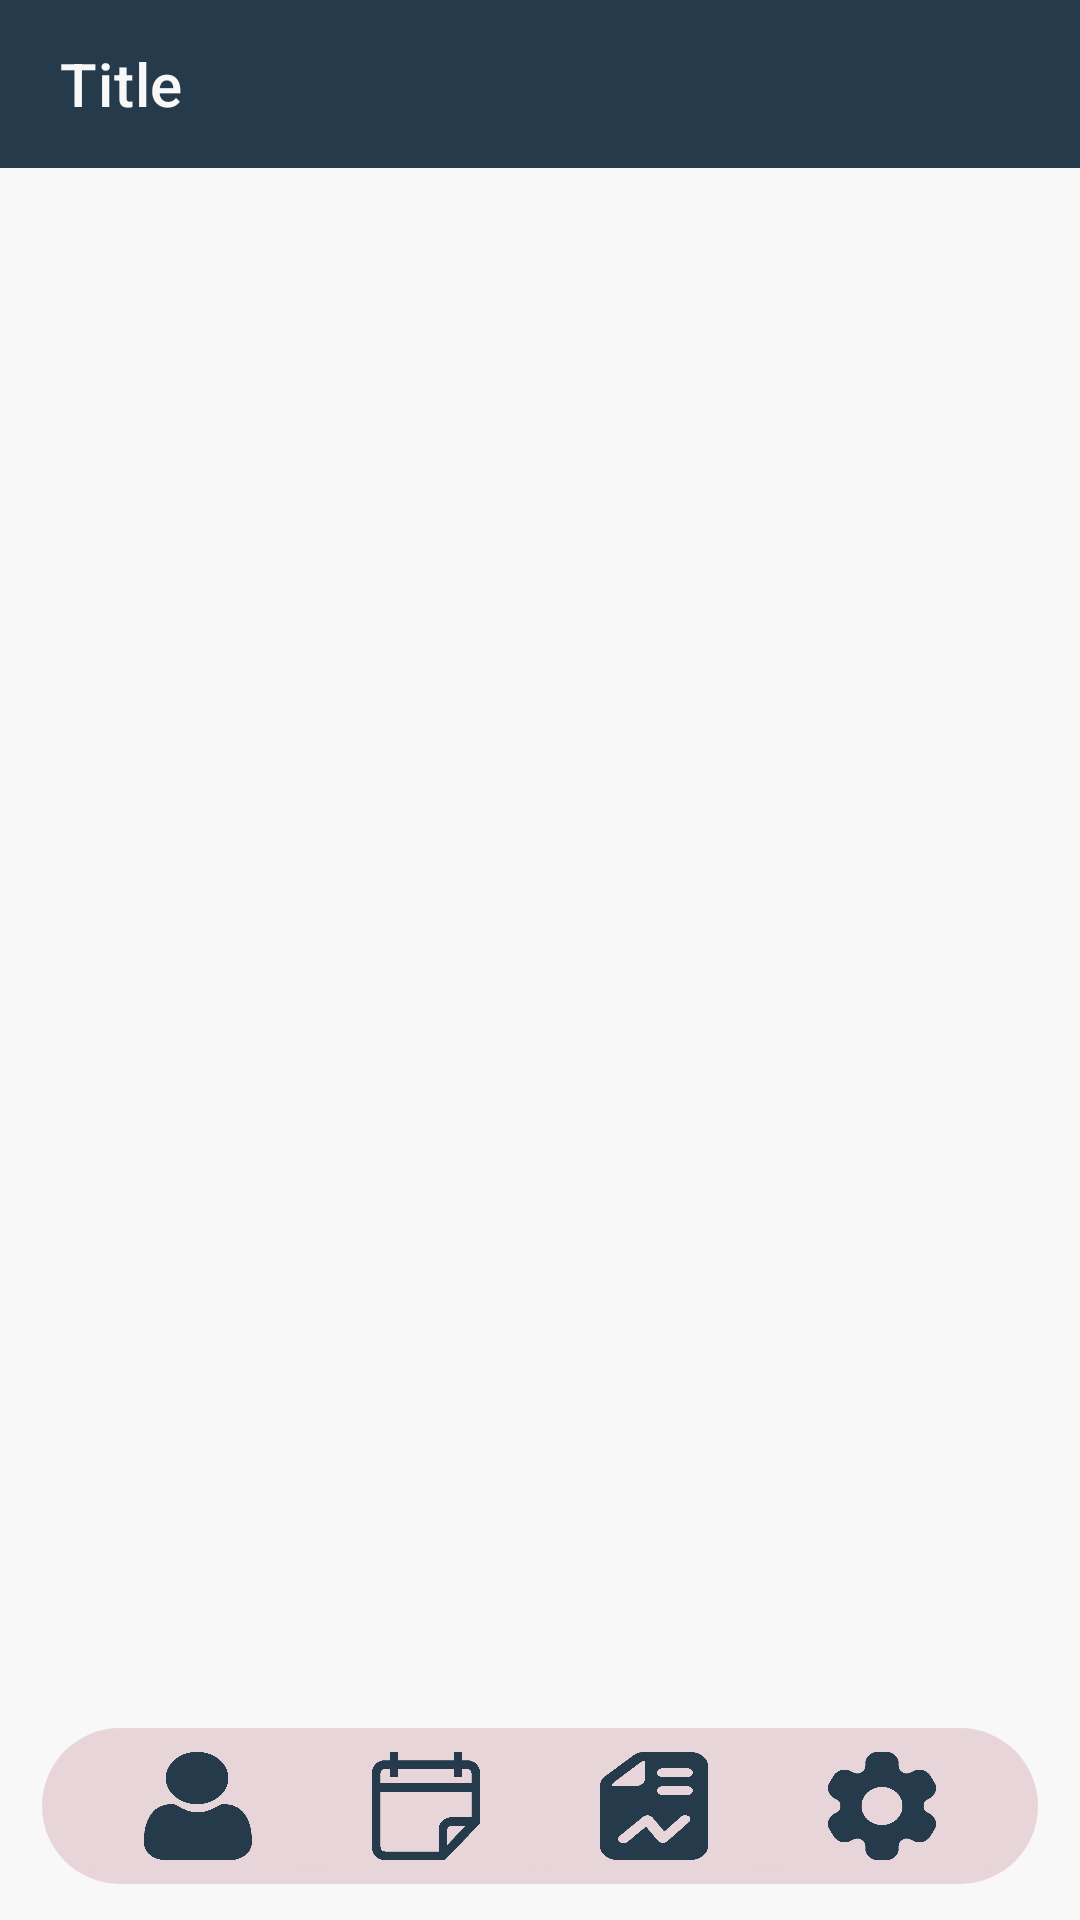

Icon bounding boxes for this 1080 x 1920 phone screenshot, format (x1, y1, x2, y2):
calendar: (372, 1752, 480, 1860)
profile: (144, 1752, 252, 1860)
report: (600, 1752, 708, 1860)
settings: (828, 1752, 936, 1860)
